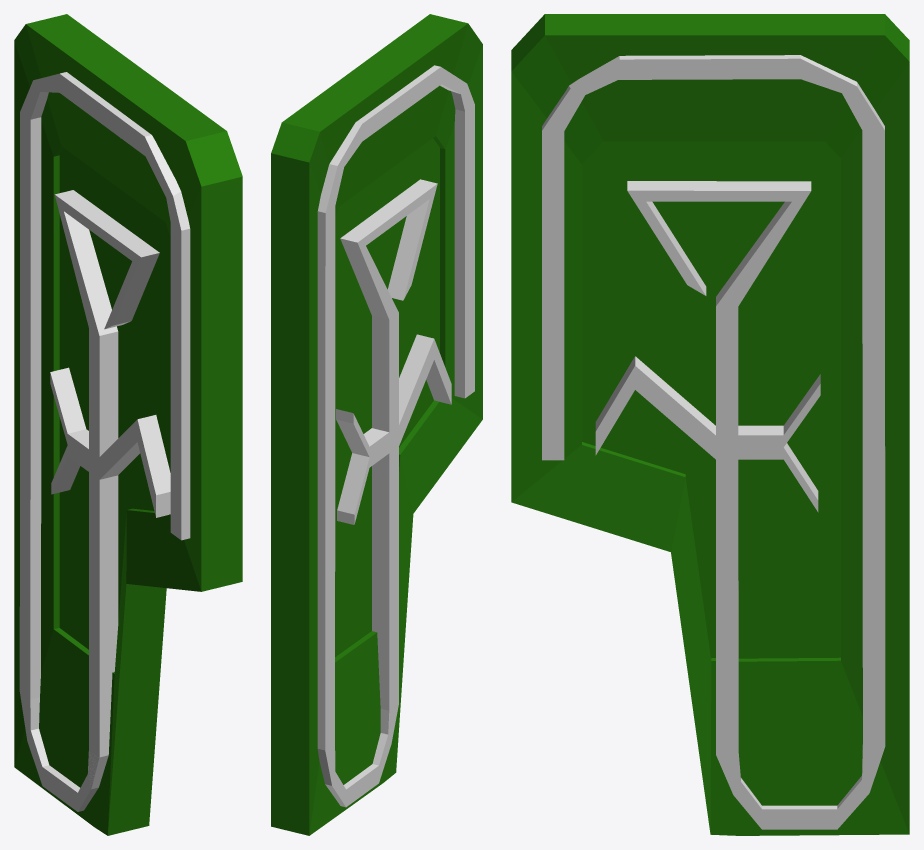
File: chip1.fbx
3 renders of one model, left to right at view 1: azimuth 30°, elevation 25°; view 2: azimuth 150°, elevation 25°; view 3: azimuth 270°, elevation 25°, orthographic. The views are drawn at different scales.
Parts seen in each view (by area): view 1: Base, Circuitos; view 2: Base, Circuitos; view 3: Base, Circuitos.
Boxes of the visible parts, <box> form: Base: <box>14,14,242,835</box>; Circuitos: <box>19,72,190,811</box>; Base: <box>271,14,482,835</box>; Circuitos: <box>317,65,474,807</box>; Base: <box>511,14,909,835</box>; Circuitos: <box>542,55,885,829</box>.
Bounding box in the file's own units: 8.1 × 110 × 49.75.
